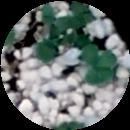Basil: (84, 43, 116, 65), (32, 36, 54, 62), (50, 18, 81, 35), (85, 66, 114, 84), (73, 2, 95, 22)
